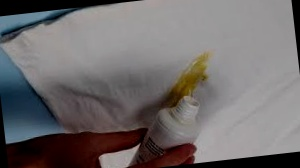mustard: (166, 59, 209, 98)
